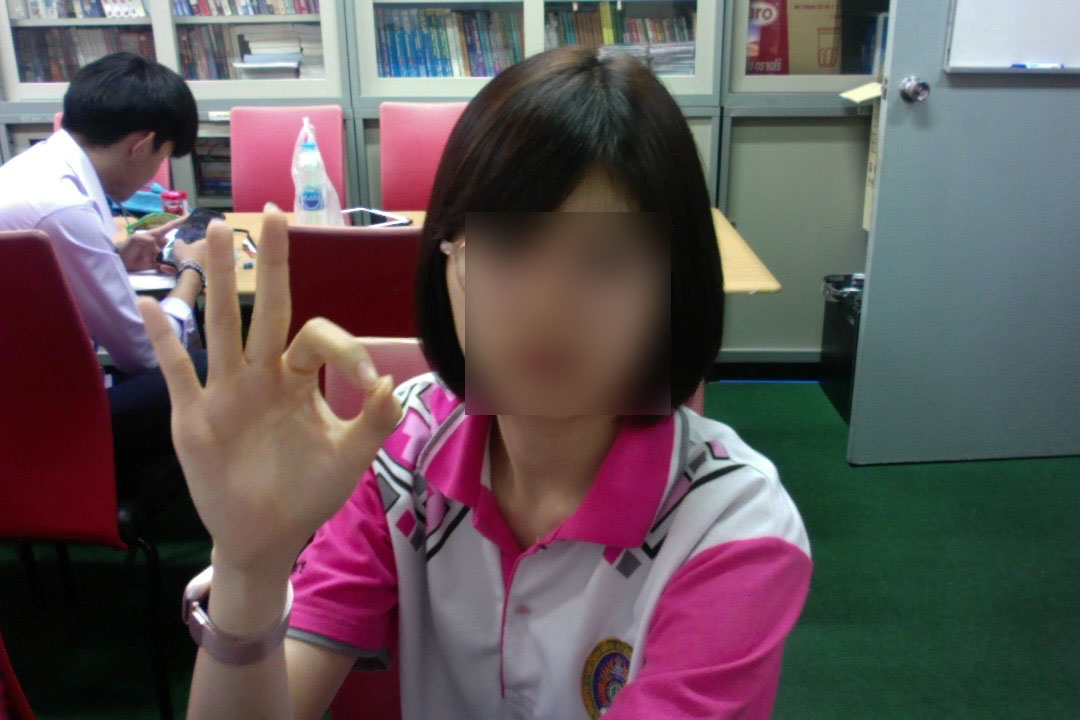for: (129, 195, 407, 566)
